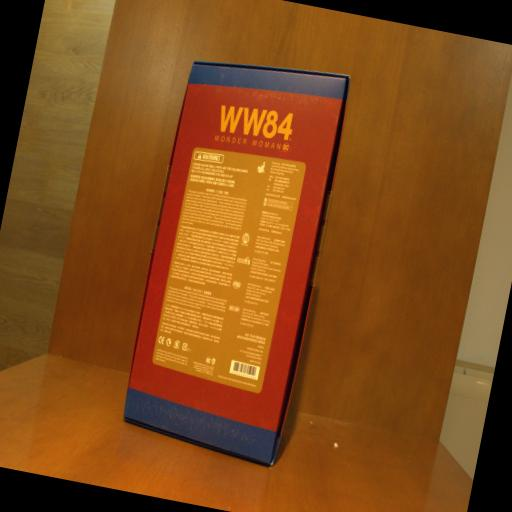WonderWoman: (115, 48, 364, 474)
